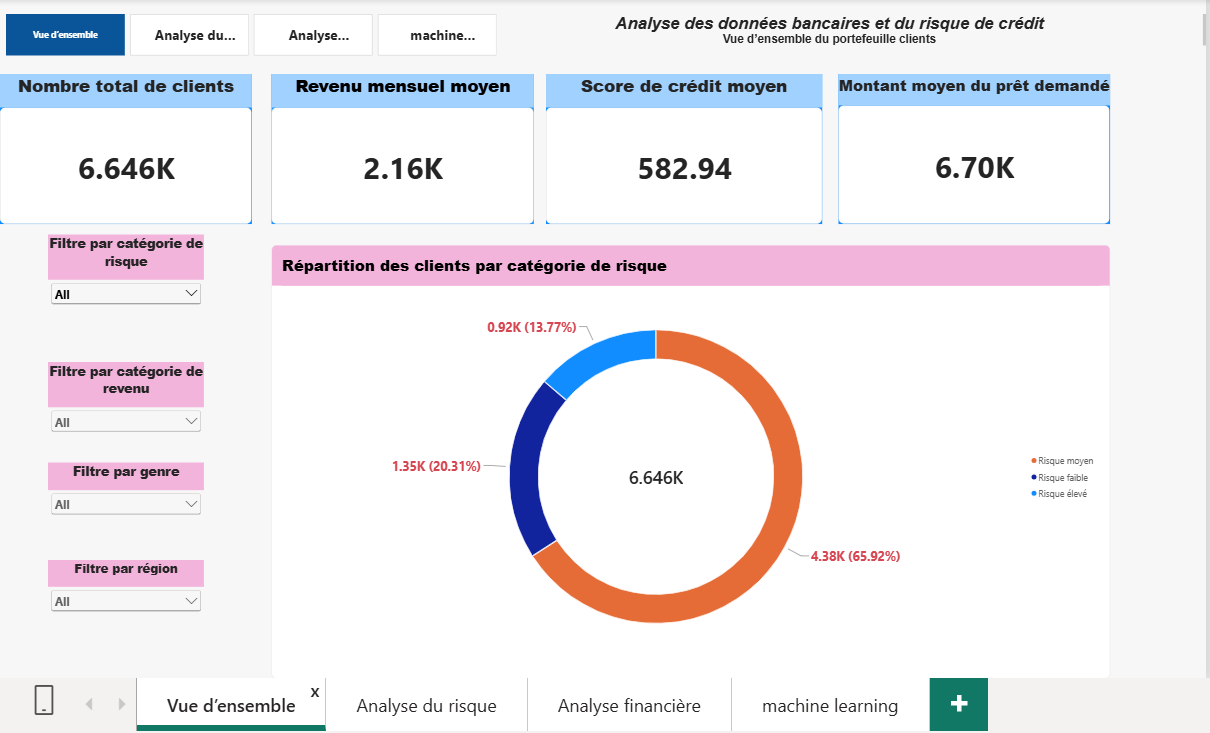

What the dashboard file says about the page in this screenshot:
{"tool":"powerbi","page":{"name":"Vue d’ensemble","canvas":[1920,1080],"ordinal":0},"visuals":[{"type":"cardVisual","title":"Nombre total de clients","fields":{"Data":["CountNonNull(banking_analysis_final.ID)"]},"box":[0,119.3,400.8,238.6],"z":0},{"type":"cardVisual","title":"Revenu mensuel moyen","fields":{"Data":["Avg(banking_analysis_final.entrées_mensuelles)"]},"box":[431.9,119.3,417.5,238.6],"z":1000},{"type":"cardVisual","title":"Score de crédit moyen","fields":{"Data":["Avg(banking_analysis_final.score de crédit)"]},"box":[868.5,119.3,439,238.6],"z":2000},{"type":"cardVisual","title":"Montant moyen du prêt demandé","fields":{"Data":["Avg(banking_analysis_final.montant_du_prêt_demandé)"]},"box":[1333.7,119.3,431.9,238.6],"z":3000},{"type":"donutChart","title":"Répartition des clients par catégorie de risque","fields":{"Category":["banking_analysis_final.categorie_risque"],"Y":["CountNonNull(banking_analysis_final.ID)"]},"box":[431.9,391.3,1333.7,689.5],"z":4000},{"type":"textbox","box":[725.1,23.1,1195.9,66.4],"z":5000},{"type":"slicer","title":"Filtre par catégorie de risque","fields":{"Values":["banking_analysis_final.categorie_risque"]},"box":[76.3,374.6,248.1,183.7],"z":6000},{"type":"slicer","title":"Filtre par catégorie de revenu","fields":{"Values":["banking_analysis_final.categorie_revenu"]},"box":[76.3,577.4,248.1,159.9],"z":7000},{"type":"slicer","title":"Filtre par genre","fields":{"Values":["banking_analysis_final.genre"]},"box":[76.3,737.2,248.1,155.1],"z":8000},{"type":"slicer","title":"Filtre par région","fields":{"Values":["banking_analysis_final.region"]},"box":[76.3,892.3,248,188],"z":9000},{"type":"pageNavigator","title":"Vue d’ensemble","box":[9.5,23.9,782.6,66.8],"z":10000}]}

Visuals, with their boxes on the page's 1920x1080 design canvas (x1, y1, x2, y2). These are canvas units, not pixel positions in the 1210x733 screenshot, which may show the page scaled, cropped or inside an application window:
"Nombre total de clients" cardVisual: 0, 119, 401, 358
"Revenu mensuel moyen" cardVisual: 432, 119, 849, 358
"Score de crédit moyen" cardVisual: 868, 119, 1308, 358
"Montant moyen du prêt demandé" cardVisual: 1334, 119, 1766, 358
"Répartition des clients par catégorie de risque" donutChart: 432, 391, 1766, 1081
textbox: 725, 23, 1921, 90
"Filtre par catégorie de risque" slicer: 76, 375, 324, 558
"Filtre par catégorie de revenu" slicer: 76, 577, 324, 737
"Filtre par genre" slicer: 76, 737, 324, 892
"Filtre par région" slicer: 76, 892, 324, 1080
"Vue d’ensemble" pageNavigator: 10, 24, 792, 91
